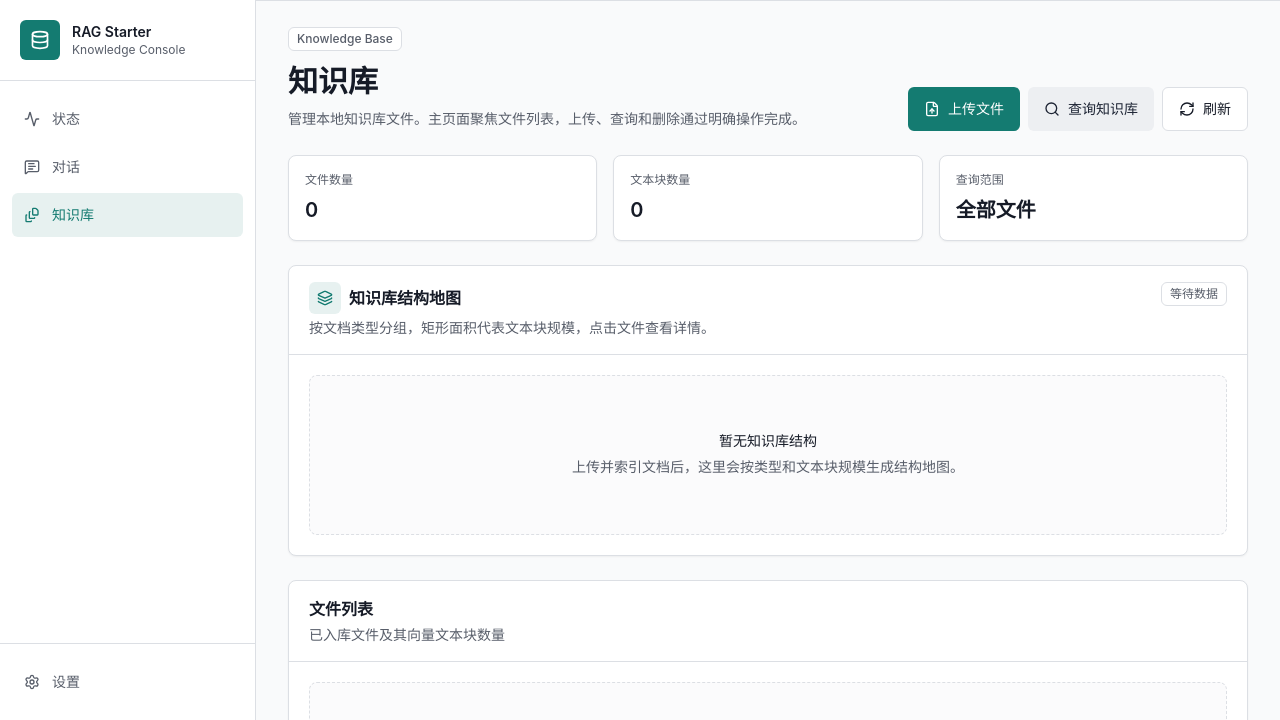
Test: App › renders settings page from shell entry
This screenshot has width=1280, height=720.
Click the link "设置". click: (52, 682)
box: [24,673,80,690]
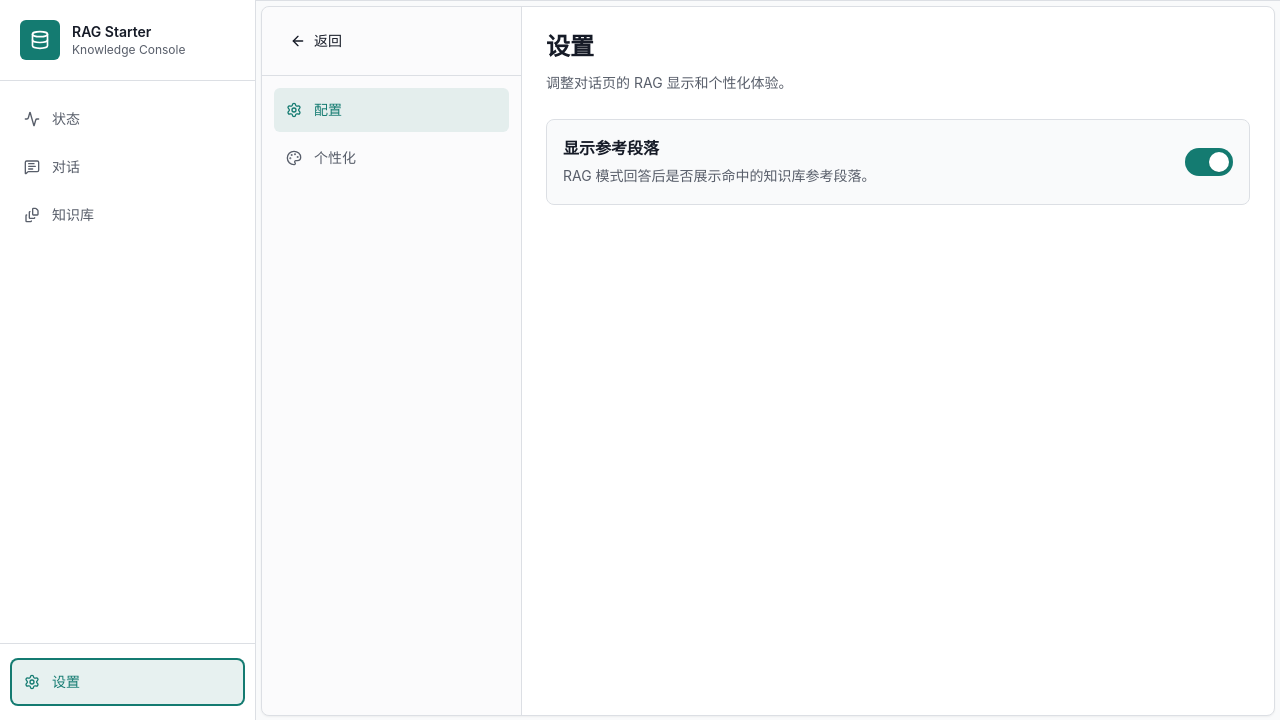
Check: the heading "设置" is shown, box [546,32,594,61]
Click the button "个性化". click: (392, 158)
box: [274,136,509,180]
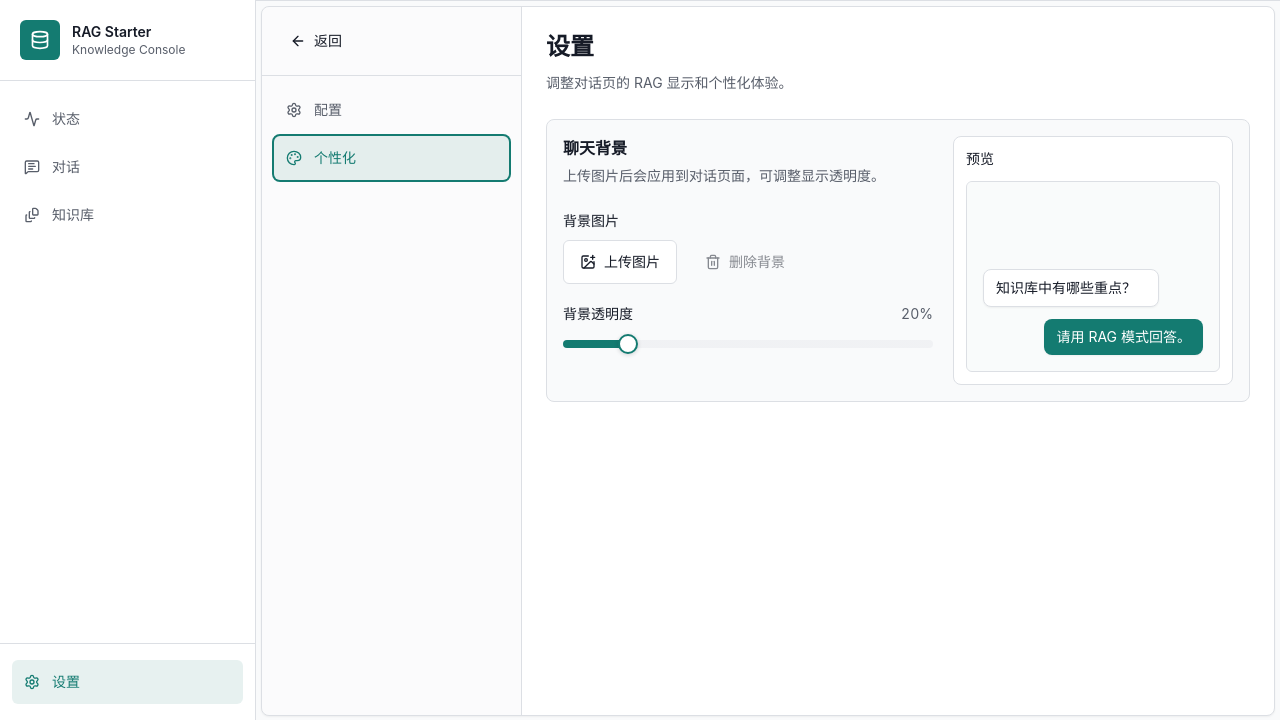
Check: the button "上传图片" is shown, box [563,240,677,284]
